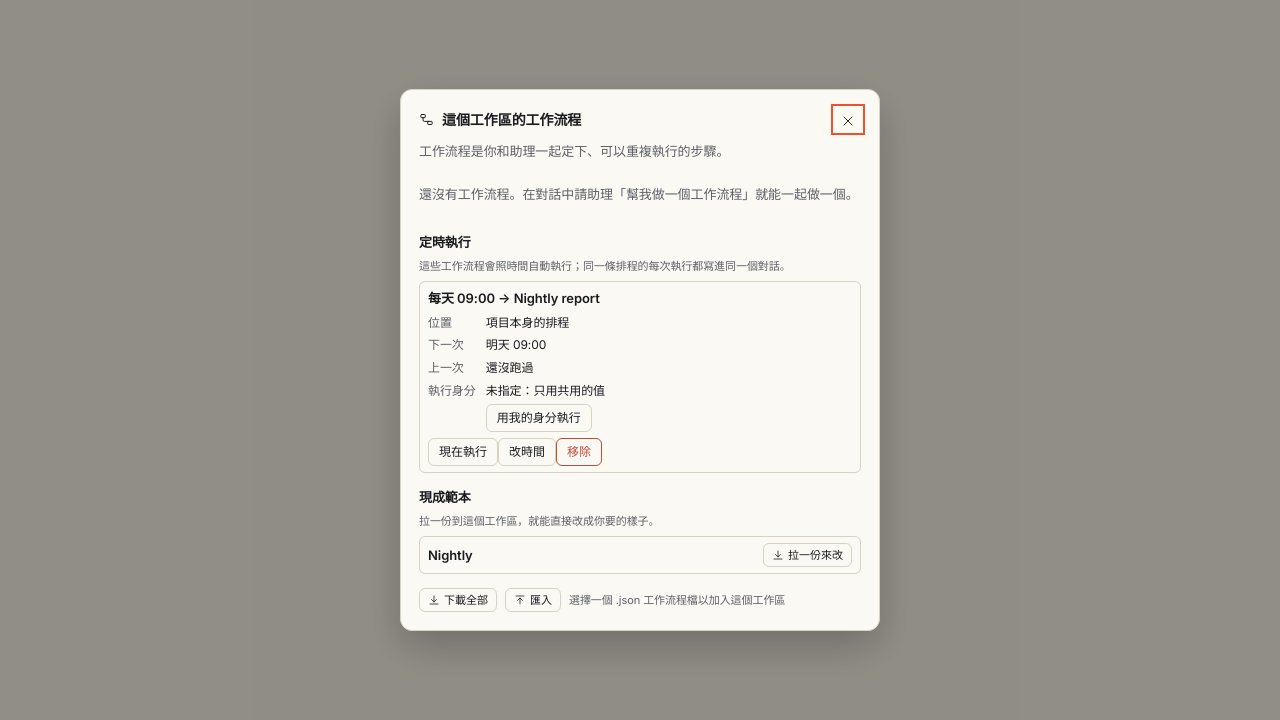
it: WorkflowsModal — schedules › removing asks once, and a cancel sends nothing
Click the button "移除" at (579, 452), box [556, 438, 602, 466]
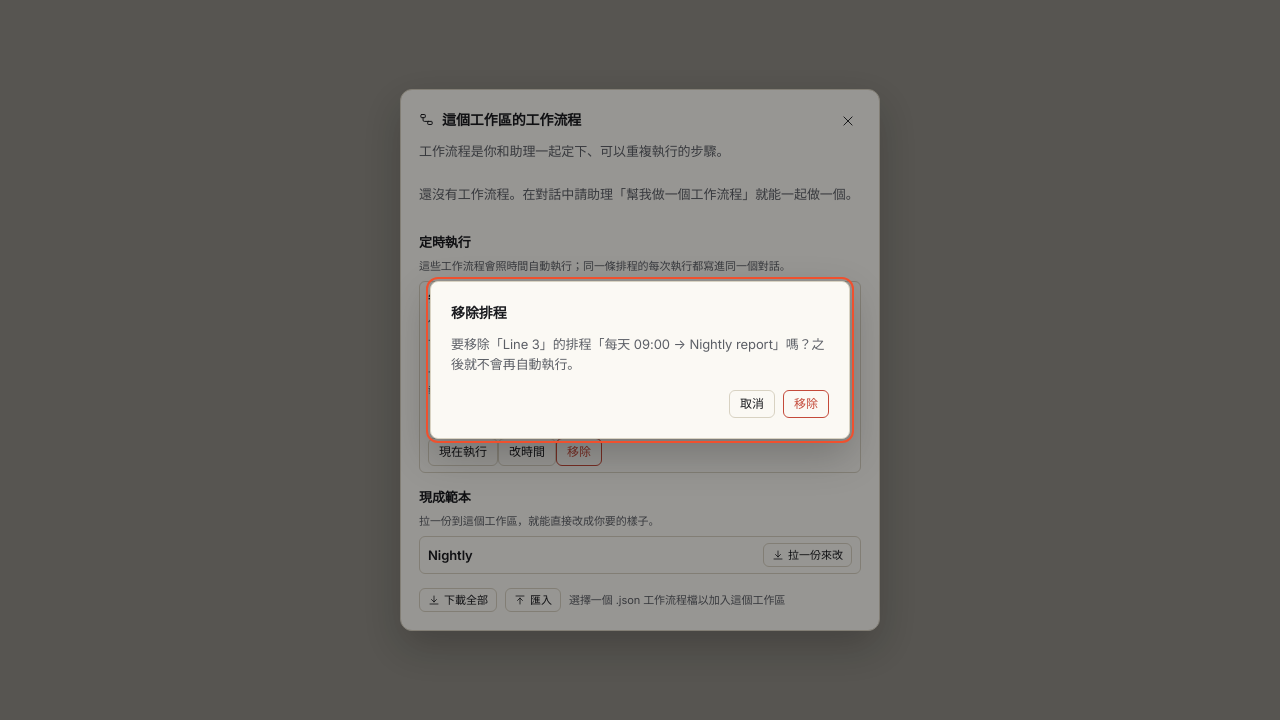
Click the button "取消" at (752, 404), box [729, 390, 775, 418]
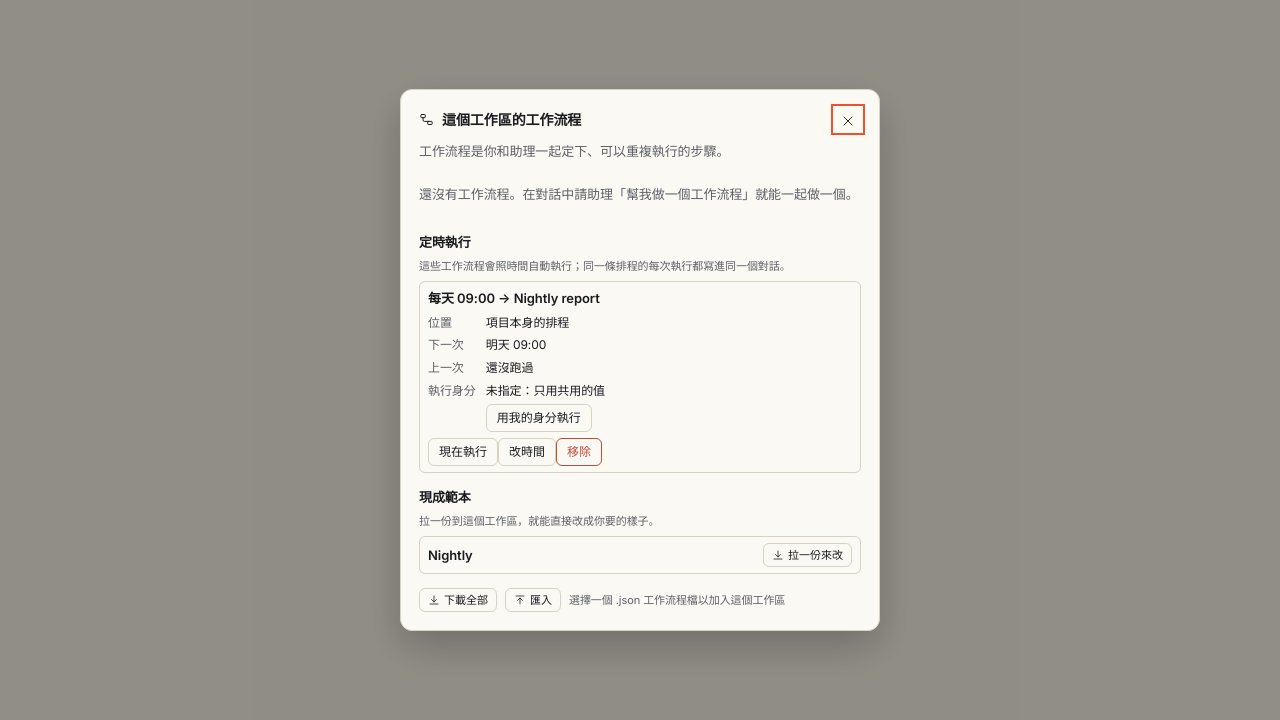
expect the text "移除排程" is gone: met
